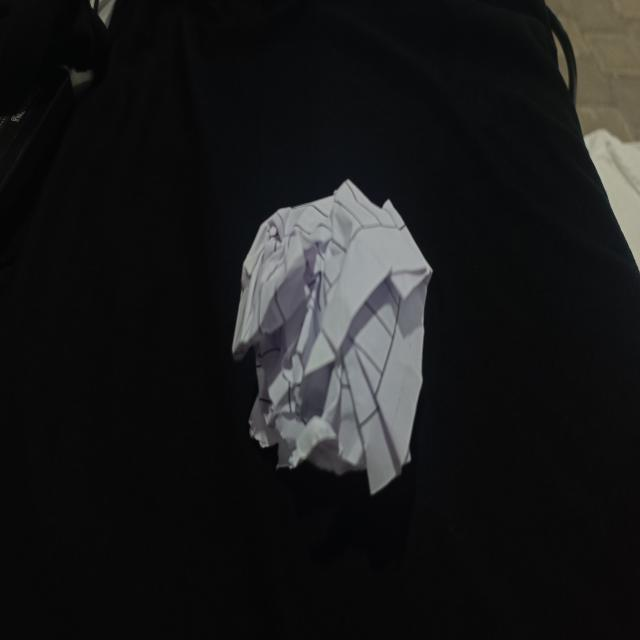PaperBall: (234, 179, 431, 488)
